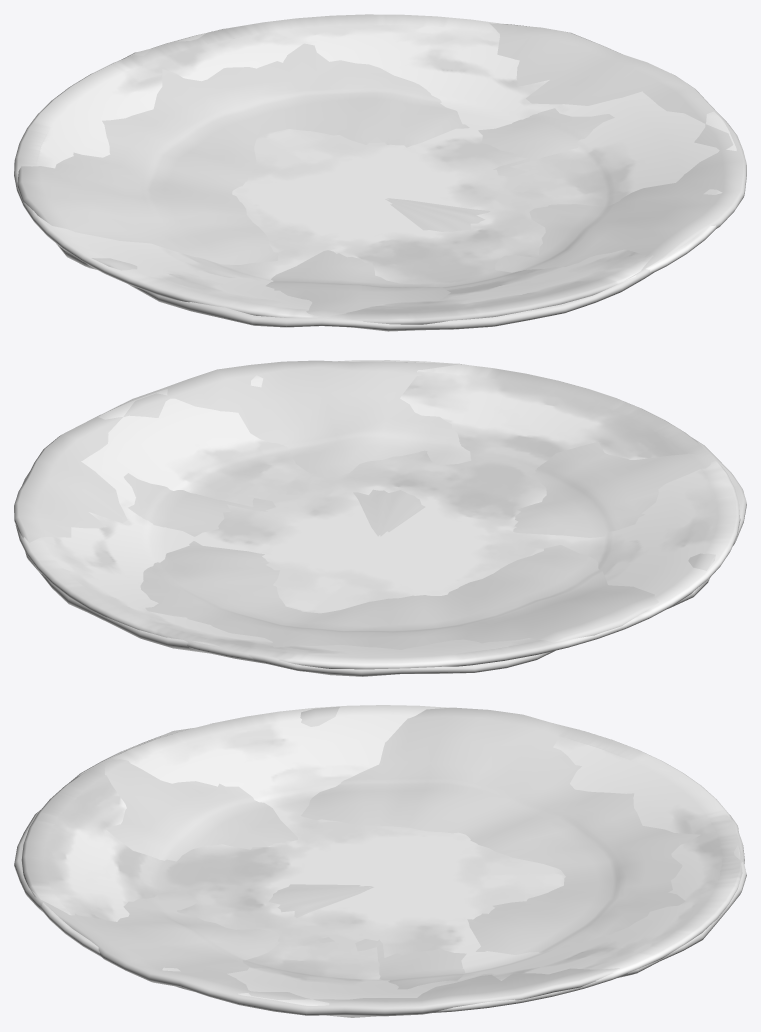
Rendered from plate.fbx.
3 renders of one model, top to bottom at view 1: azimuth 30°, elevation 25°; view 2: azimuth 150°, elevation 25°; view 3: azimuth 270°, elevation 25°, orthographic.
Visible parts, largest first — view 1: plate; view 2: plate; view 3: plate.
Boxes of the visible parts, <box> form: plate: <box>14,14,746,331</box>; plate: <box>14,360,746,676</box>; plate: <box>14,705,746,1017</box>.
Bounding box in the file's own units: 0.5032 × 0.048 × 0.5079.
Materials: 2 (1 with a texture image).
